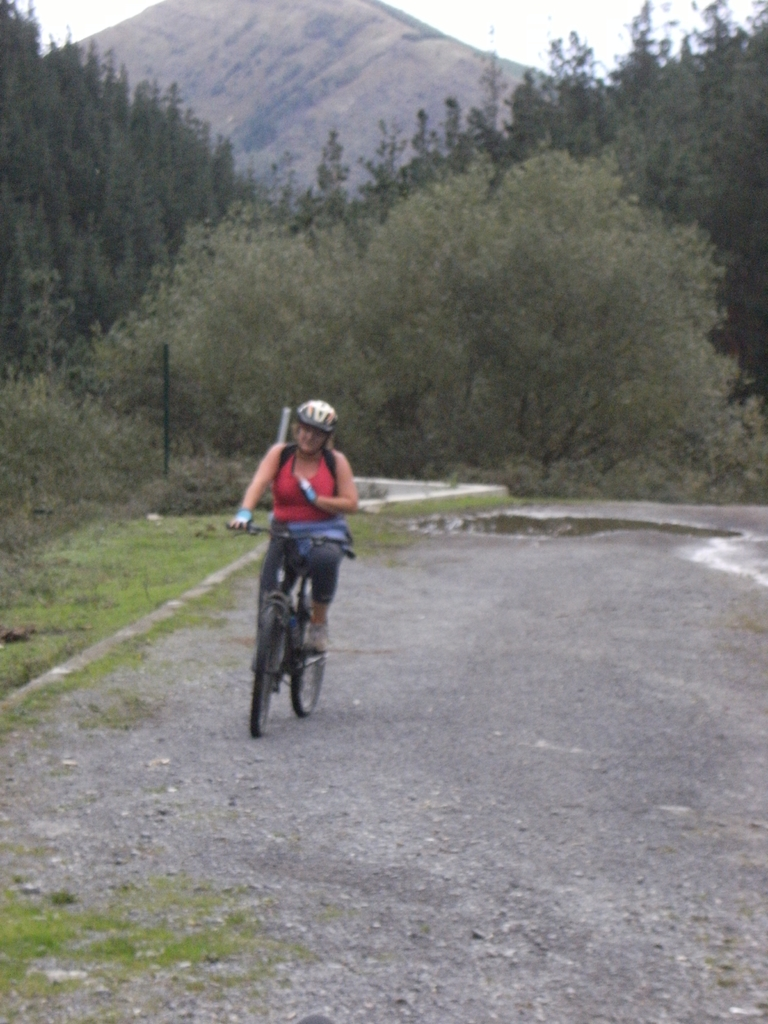Bike_toward: (213, 520, 356, 704)
